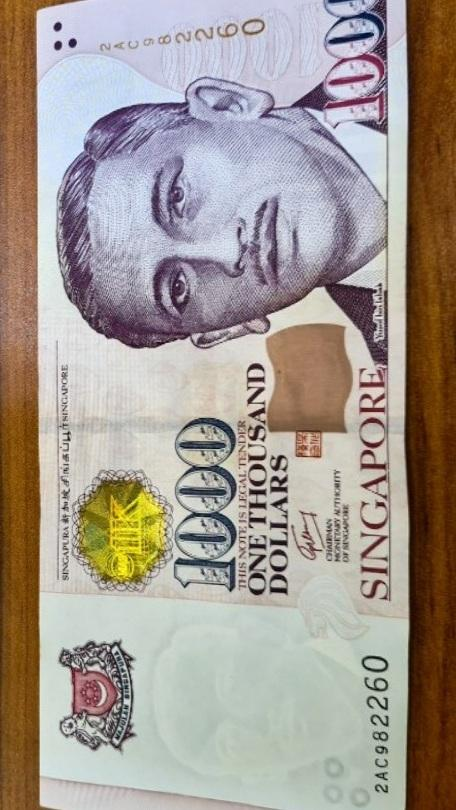1000SingaporeDollar: (40, 0, 407, 810)
